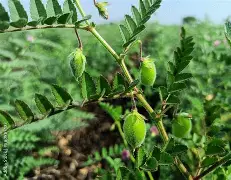crops: (1, 2, 229, 177), (186, 20, 231, 84), (1, 126, 49, 177), (141, 22, 185, 69)
